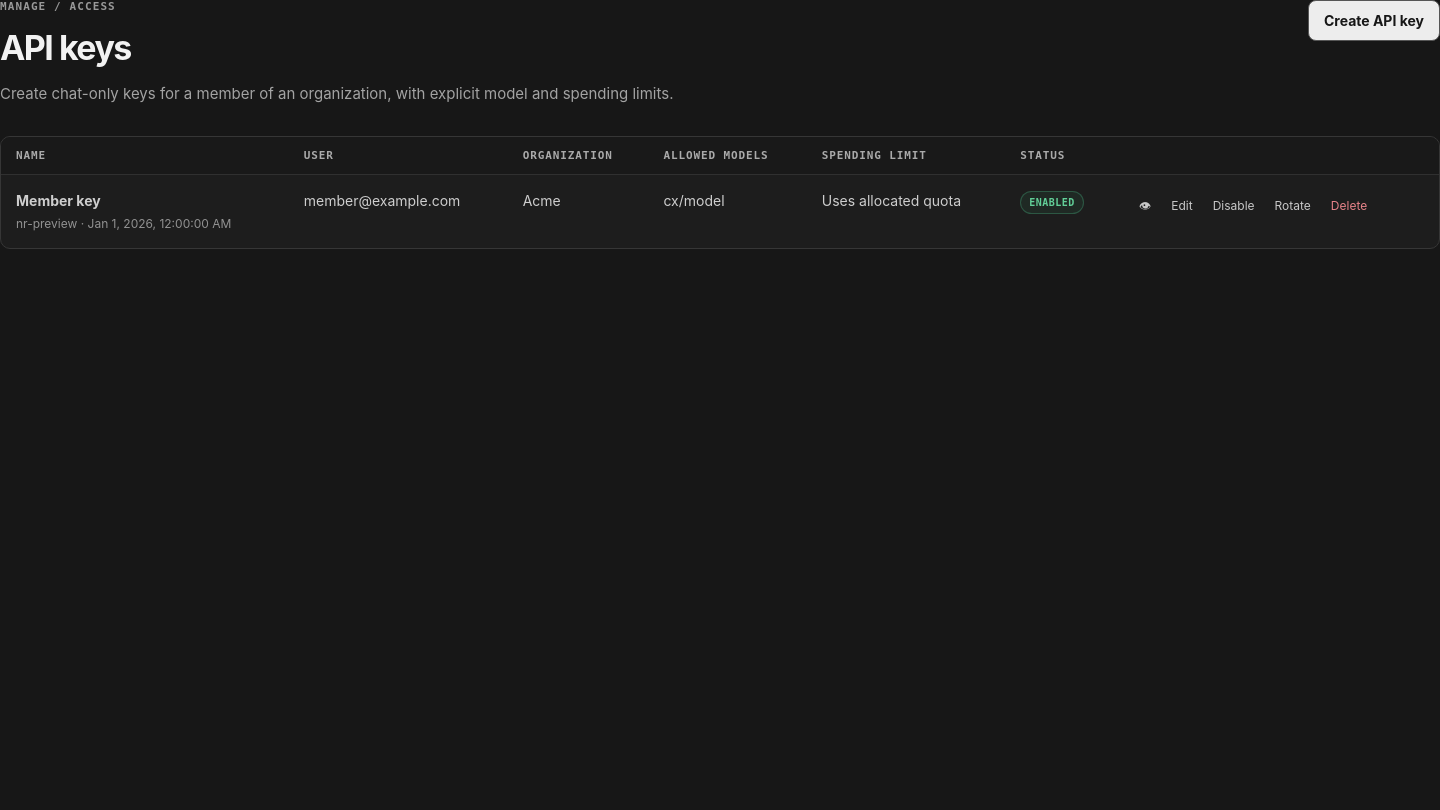
Test: reveals an API key in a copyable popup
The image size is (1440, 810).
Click the button named "View Member key API key" at point(1145, 206), box left=1130, top=190, right=1160, bottom=222
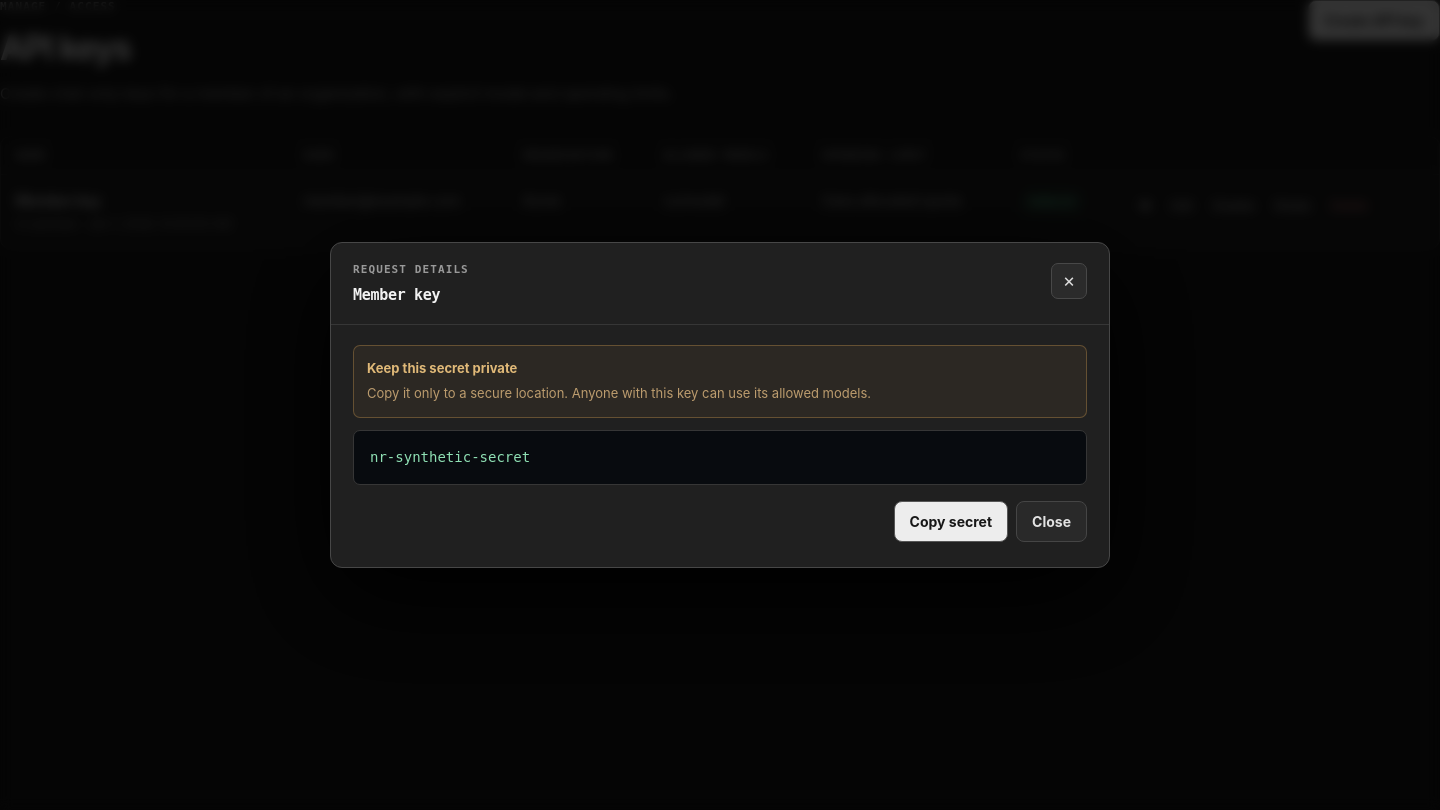
Now the text "nr-synthetic-secret" is shown, box left=353, top=430, right=1087, bottom=485
Now the button "Copy secret" is shown, box left=894, top=501, right=1008, bottom=542
